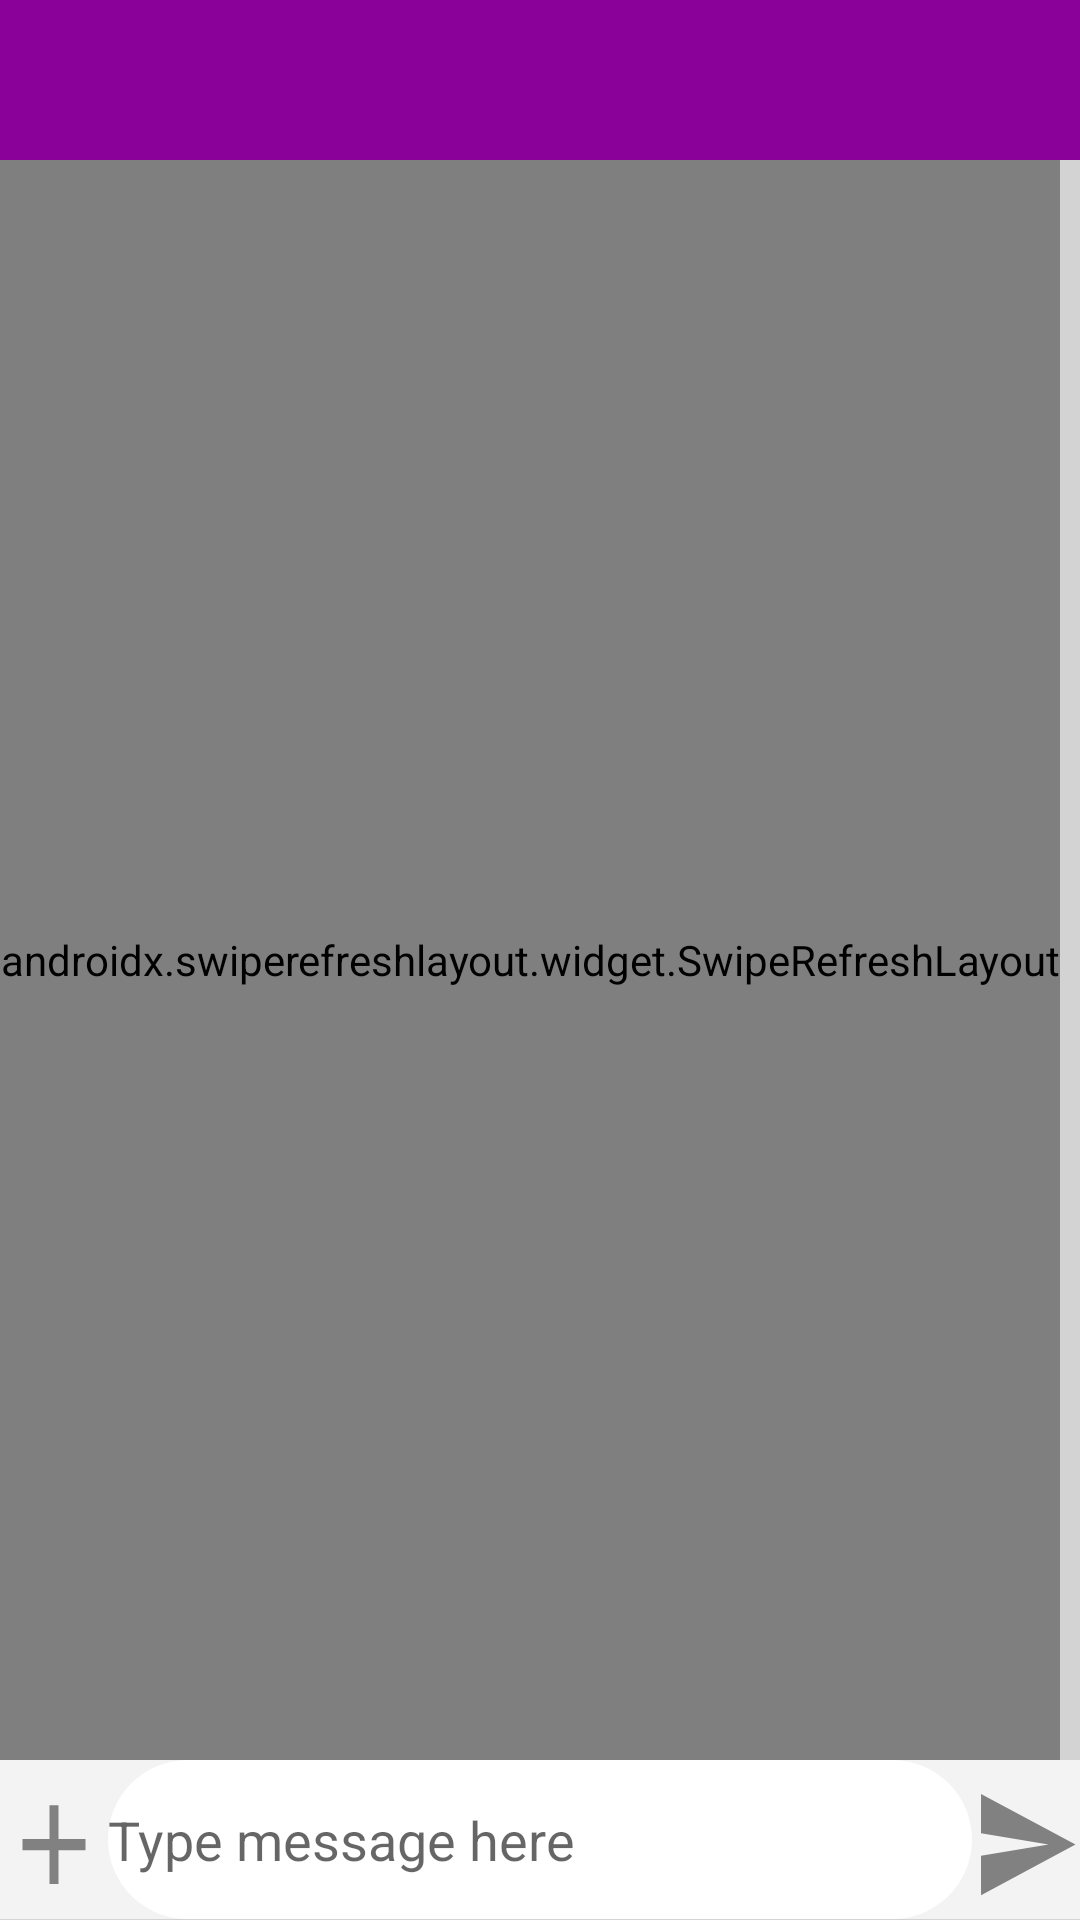

Icon bounding boxes for this 1080px×1920px phone screenshot, format (x1, y1, x2, y2):
add: (22, 1805, 86, 1884)
send: (981, 1794, 1075, 1895)
